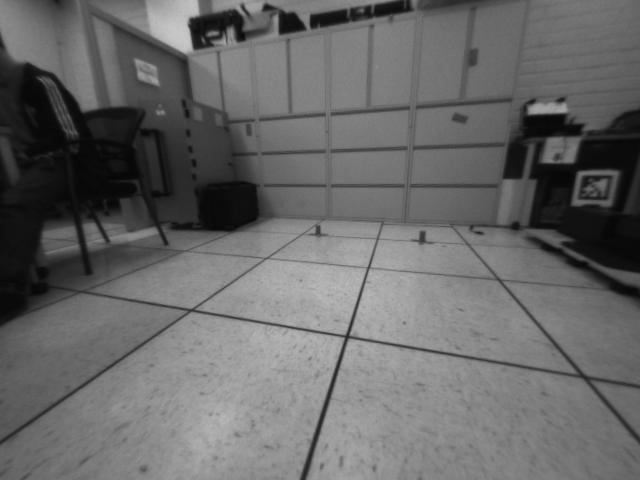X: (411, 228, 435, 245), (306, 223, 330, 238)
